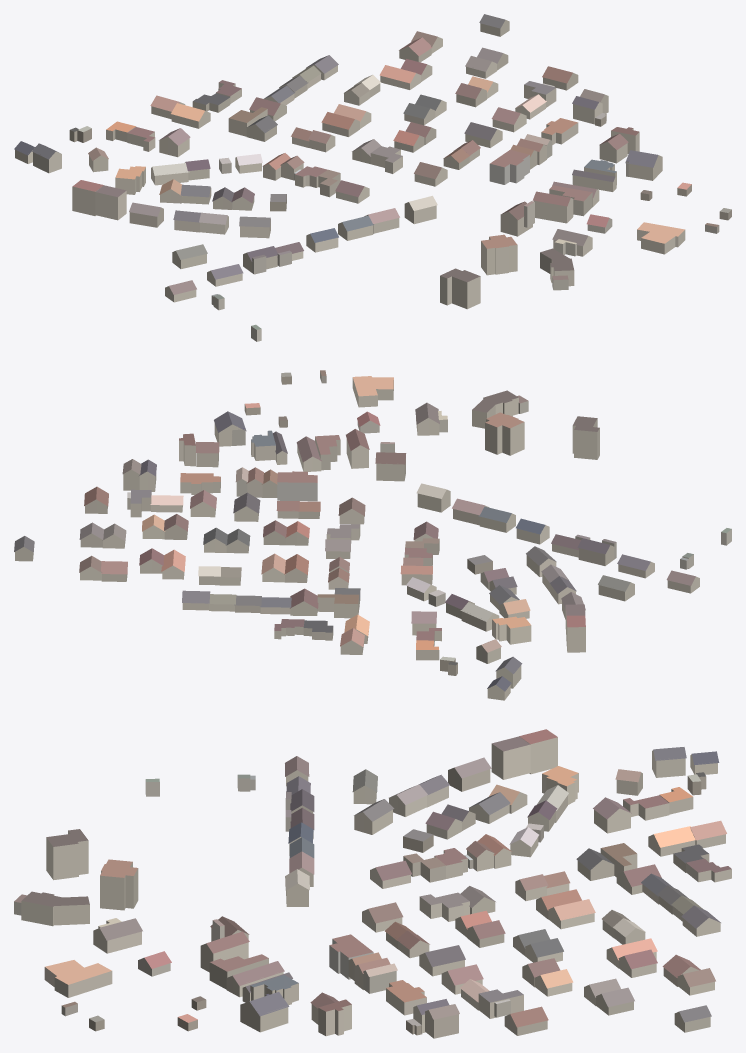
The picture shows the model from 3 angles, top to bottom: view 1: azimuth 30°, elevation 25°; view 2: azimuth 150°, elevation 25°; view 3: azimuth 270°, elevation 25°; orthographic projection. The views are drawn at different scales.
Parts seen in each view (by area): view 1: tuile; view 2: tuile; view 3: tuile.
Boxes of the visible parts, box(x1,y1,x2,y2) form: tuile: box(14, 14, 731, 341); tuile: box(14, 370, 731, 700); tuile: box(14, 729, 731, 1038).
Size of the model in its own units: 256 by 25.32 by 259.
